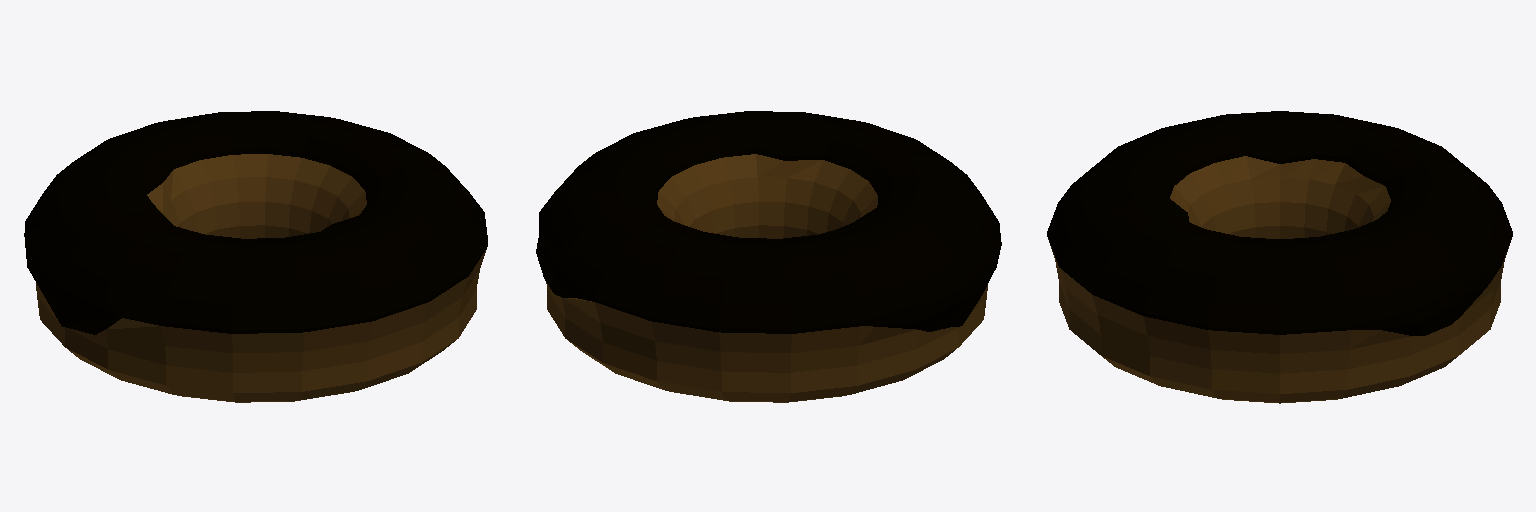
File: Additive_Donut_Mesh.obj
3 renders of one model, left to right at view 1: azimuth 30°, elevation 25°; view 2: azimuth 150°, elevation 25°; view 3: azimuth 270°, elevation 25°, orthographic.
Parts seen in each view (by area): view 1: Donut_Mesh; view 2: Donut_Mesh; view 3: Donut_Mesh.
Part boxes in pixels (bbox=[...]): Donut_Mesh: bbox=[24, 111, 487, 402]; Donut_Mesh: bbox=[536, 111, 1001, 402]; Donut_Mesh: bbox=[1047, 111, 1512, 403].
Size of the model in its own units: 2.97 by 1.04 by 2.96.